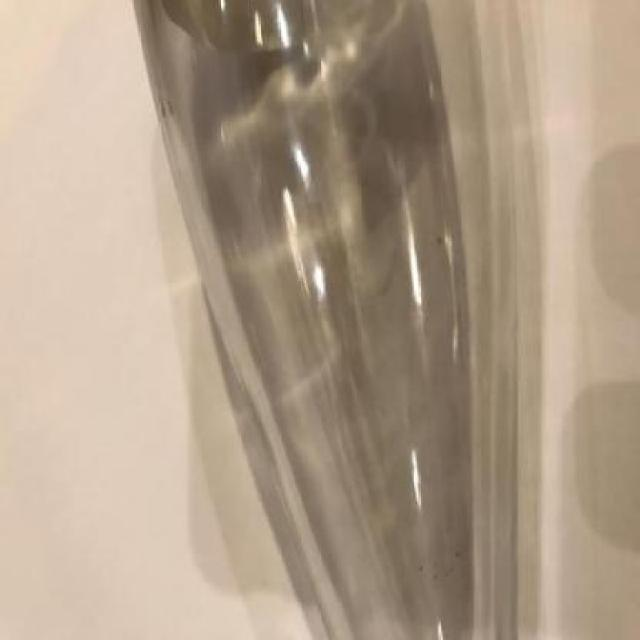kaca: (134, 0, 471, 638)
